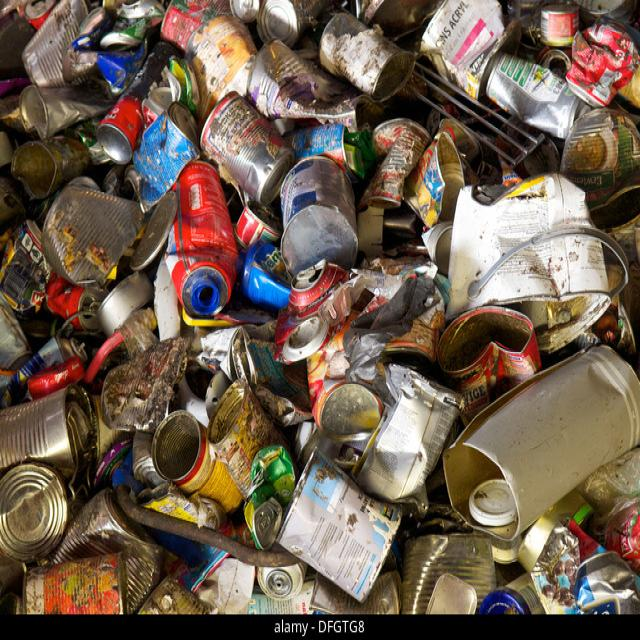metal: (4, 17, 630, 608)
